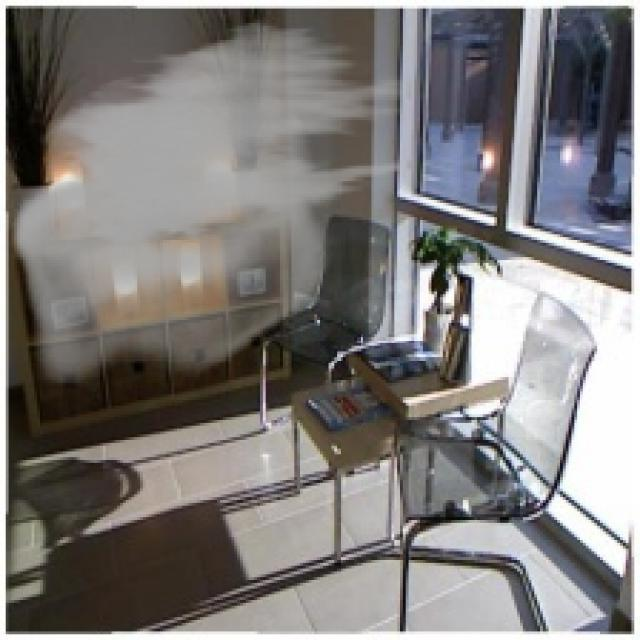Smoke: (11, 17, 412, 386)
